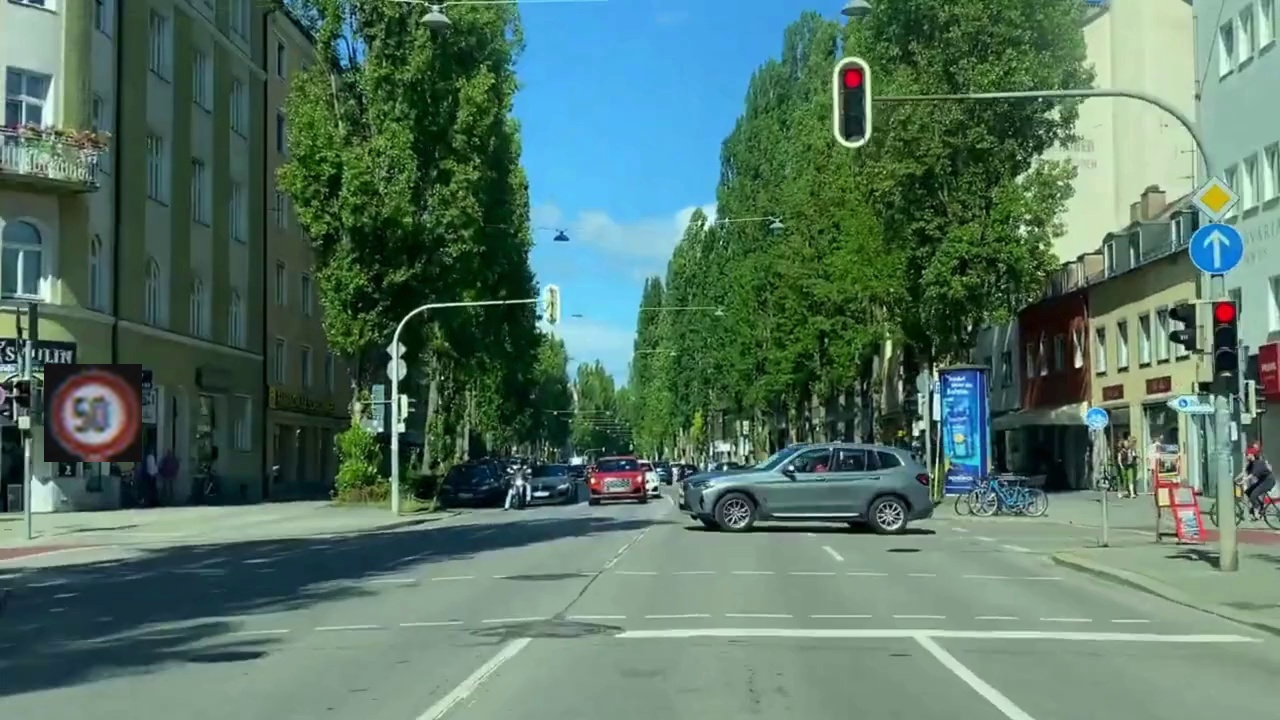Speed 50: (44, 364, 142, 462)
